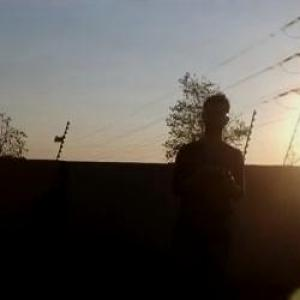follow: (164, 85, 248, 299)
